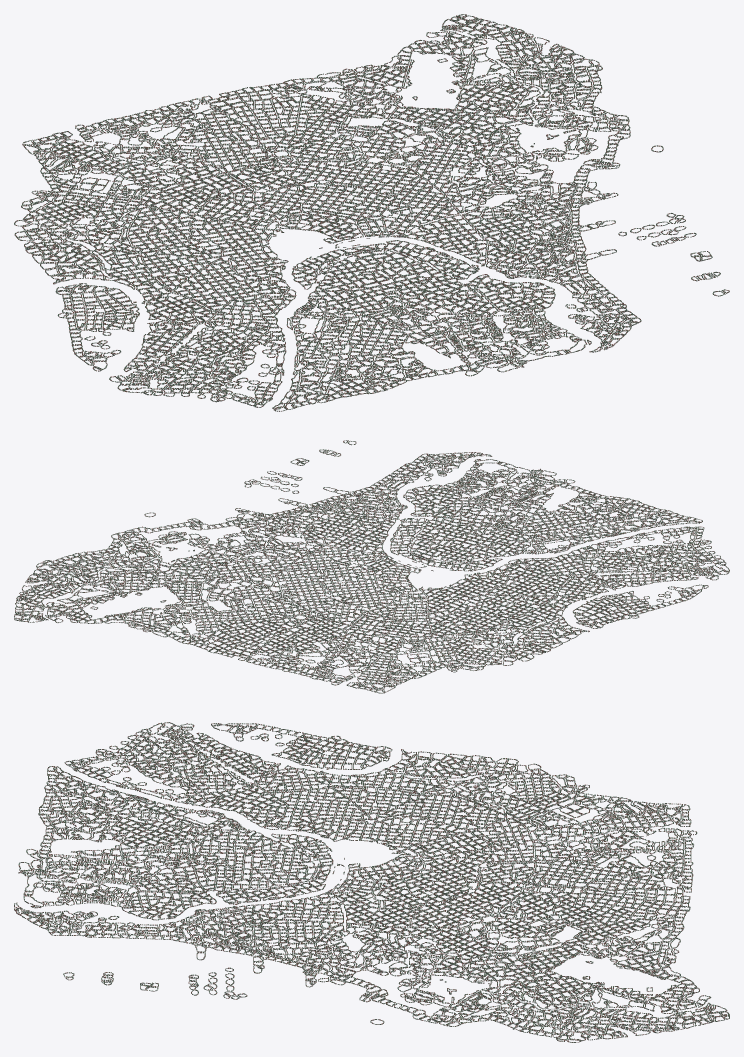
Rendered from far.glb.
3 views of the same model, one above another, from view 1: azimuth 30°, elevation 25°; view 2: azimuth 150°, elevation 25°; view 3: azimuth 270°, elevation 25° (orthographic). The views are drawn at different scales.
Bounding box in the file's own units: 9952 × 12.95 × 9410.
